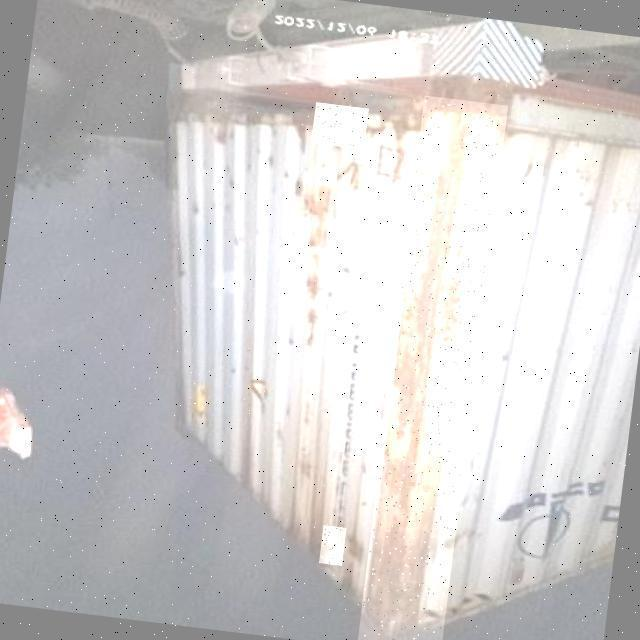rust: (362, 107, 506, 640), (312, 103, 370, 150), (319, 526, 347, 567)
